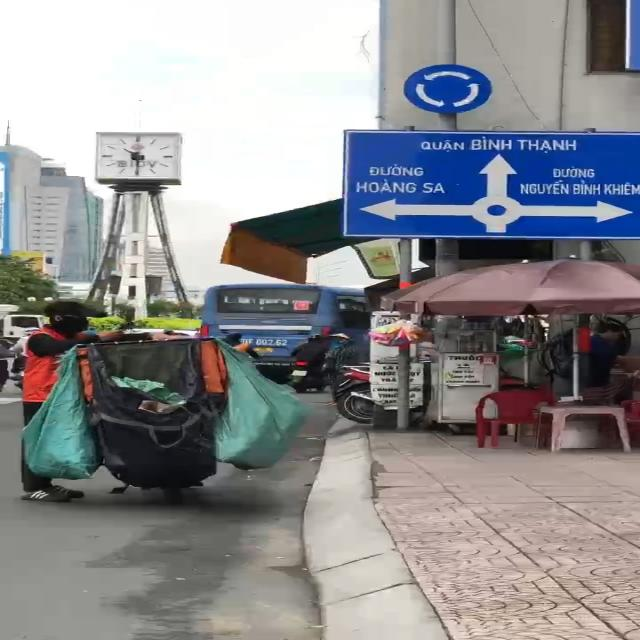Bien bao noi giao nhau chay theo vong xuyen: (399, 57, 501, 116)
